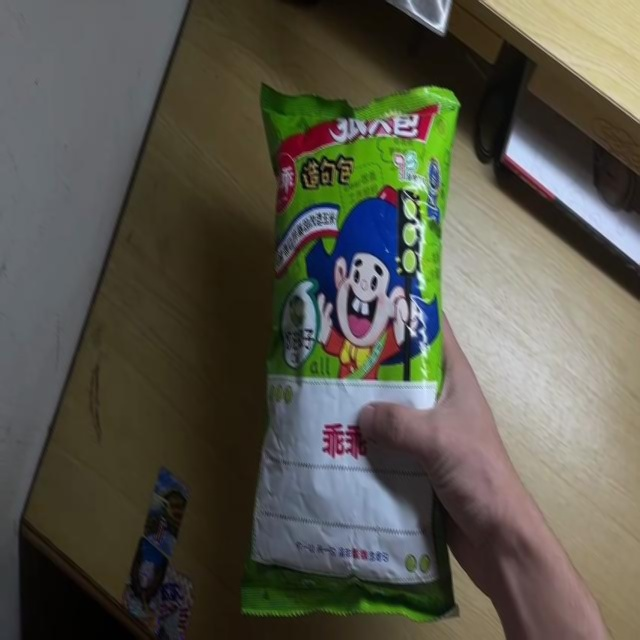Good-Luck: (239, 82, 462, 622)
